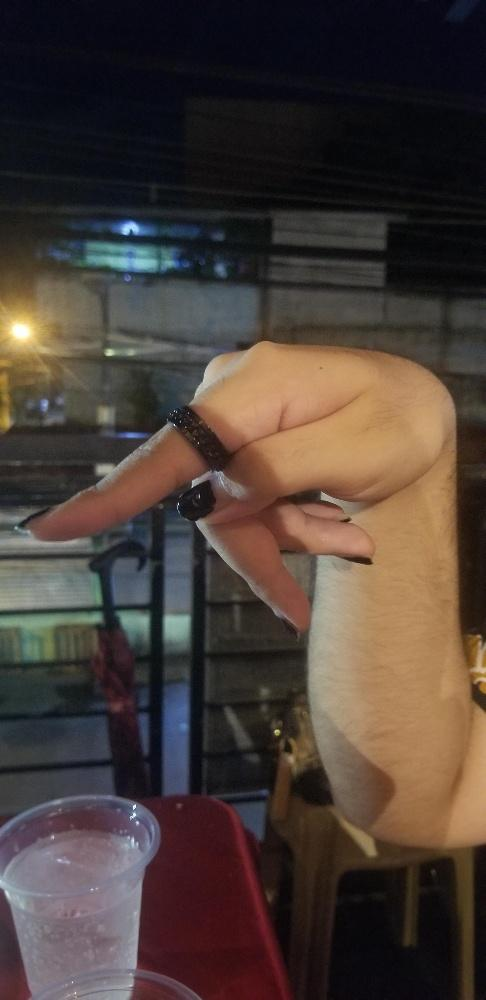p: (22, 337, 457, 627)
